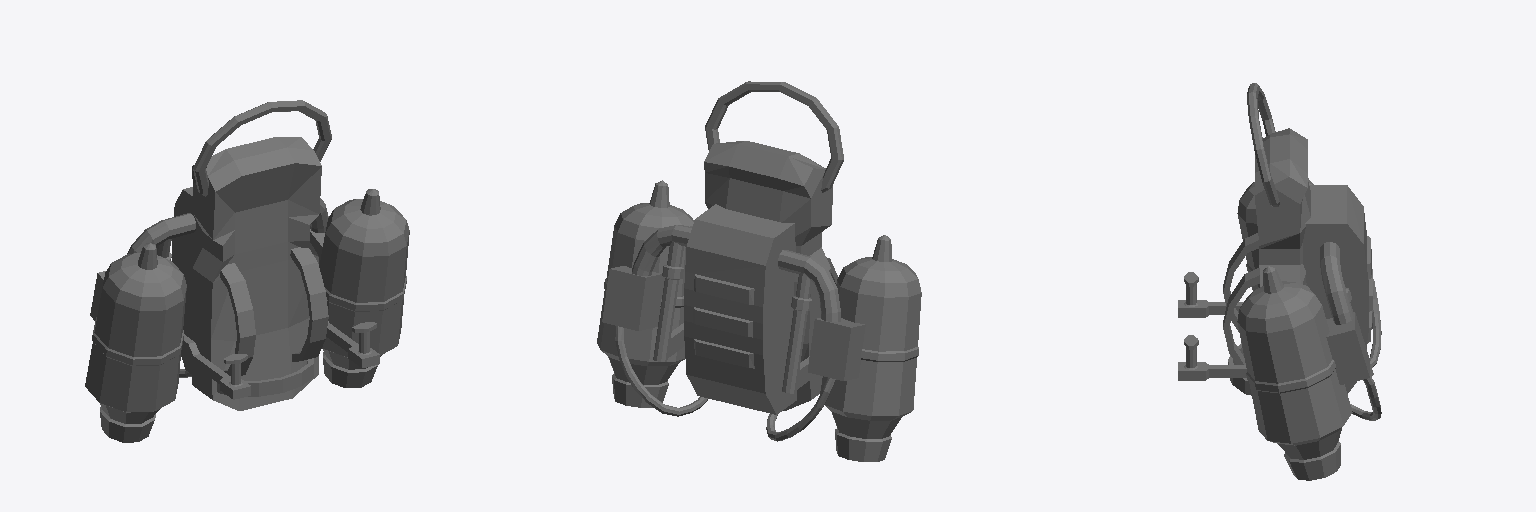
The model's file is Jetpack.obj.
3 renders of one model, left to right at view 1: azimuth 30°, elevation 25°; view 2: azimuth 150°, elevation 25°; view 3: azimuth 270°, elevation 25°, orthographic.
Visible parts, largest first — view 1: Jetpack; view 2: Jetpack; view 3: Jetpack.
Boxes of the visible parts, <box> form: Jetpack: <box>85,100,409,442</box>; Jetpack: <box>597,81,921,461</box>; Jetpack: <box>1178,83,1381,480</box>.
Size of the model in its own units: 0.994 by 1.03 by 0.5796.